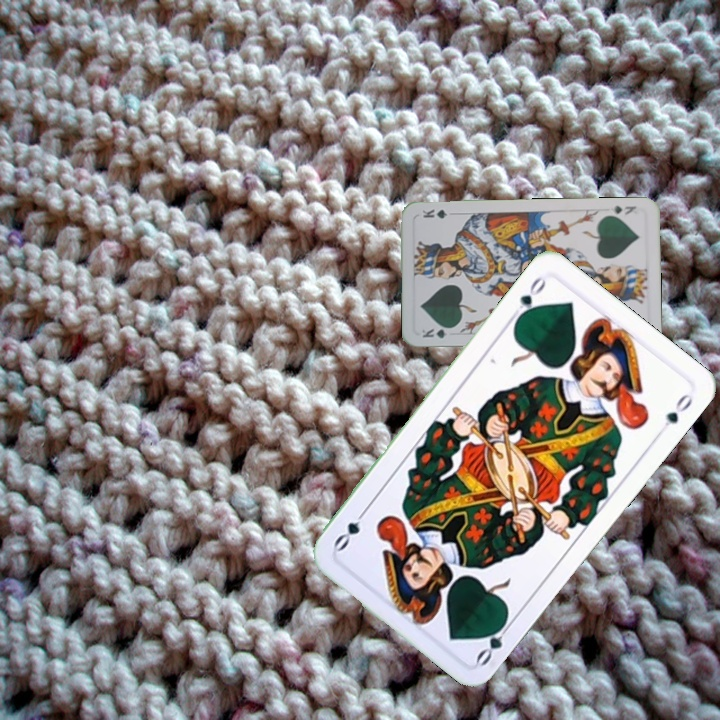GK: (418, 324, 457, 341), (606, 201, 639, 217)
GO: (472, 613, 516, 668), (506, 272, 549, 325)
